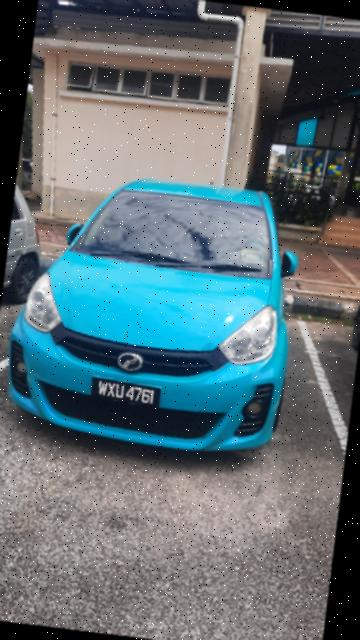License_Plate: (88, 373, 167, 416)
car: (1, 160, 320, 471)
